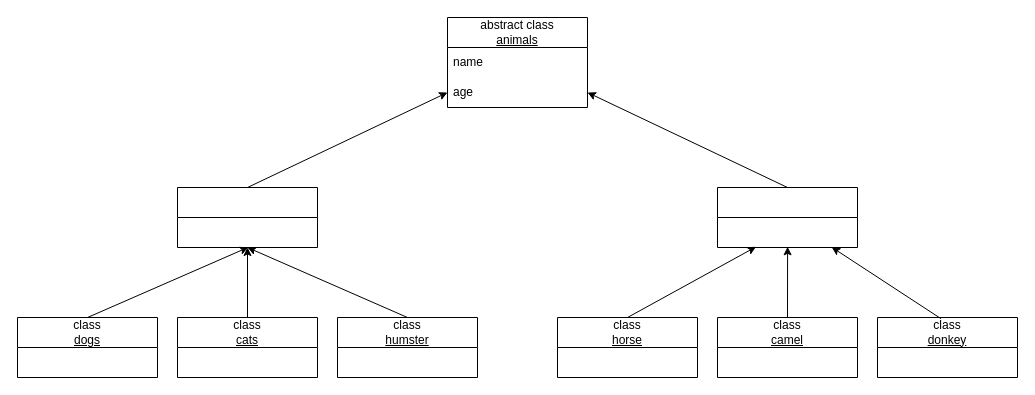
Image size: 1035x395. Some labels were removed from this diagram. The centre of each missing label's shape, as x and y in pixels:
class pack_animals: the point at 787,217
class pets: the point at 247,217
